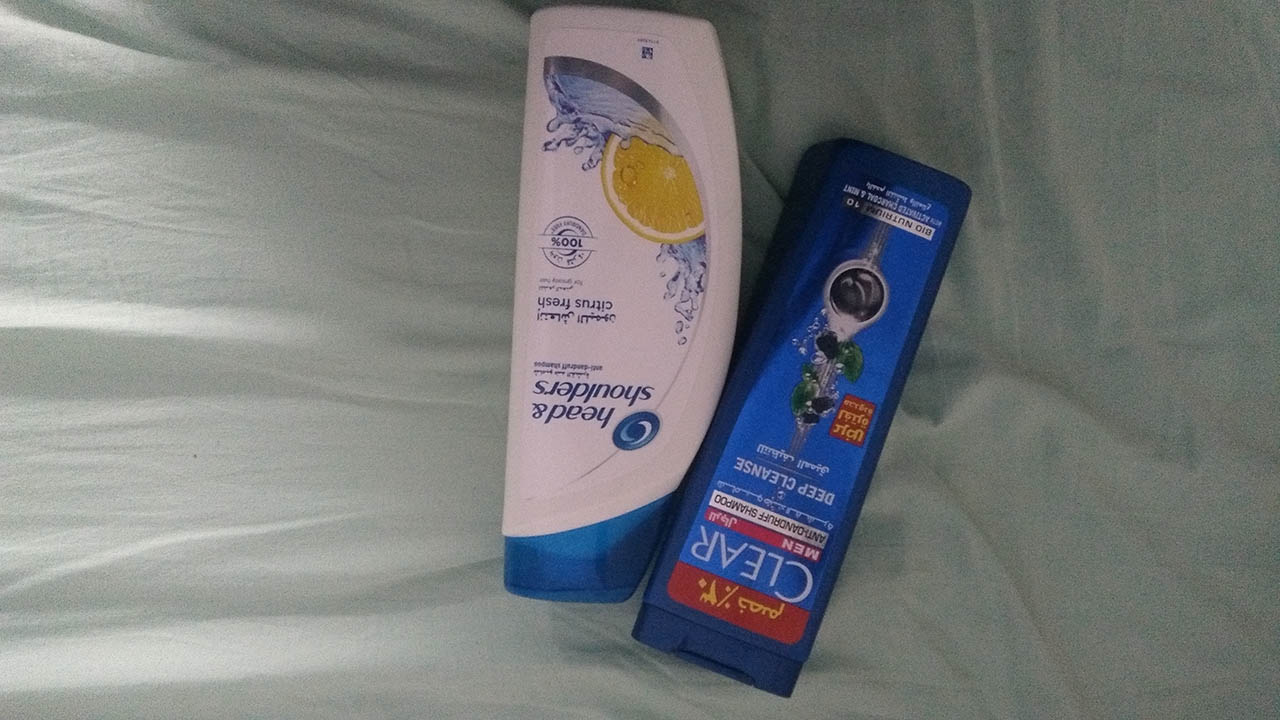Shampoo-Clear 4.7$: (670, 173, 983, 672)
shampoo-Lemon 3.5$: (476, 13, 742, 588)
